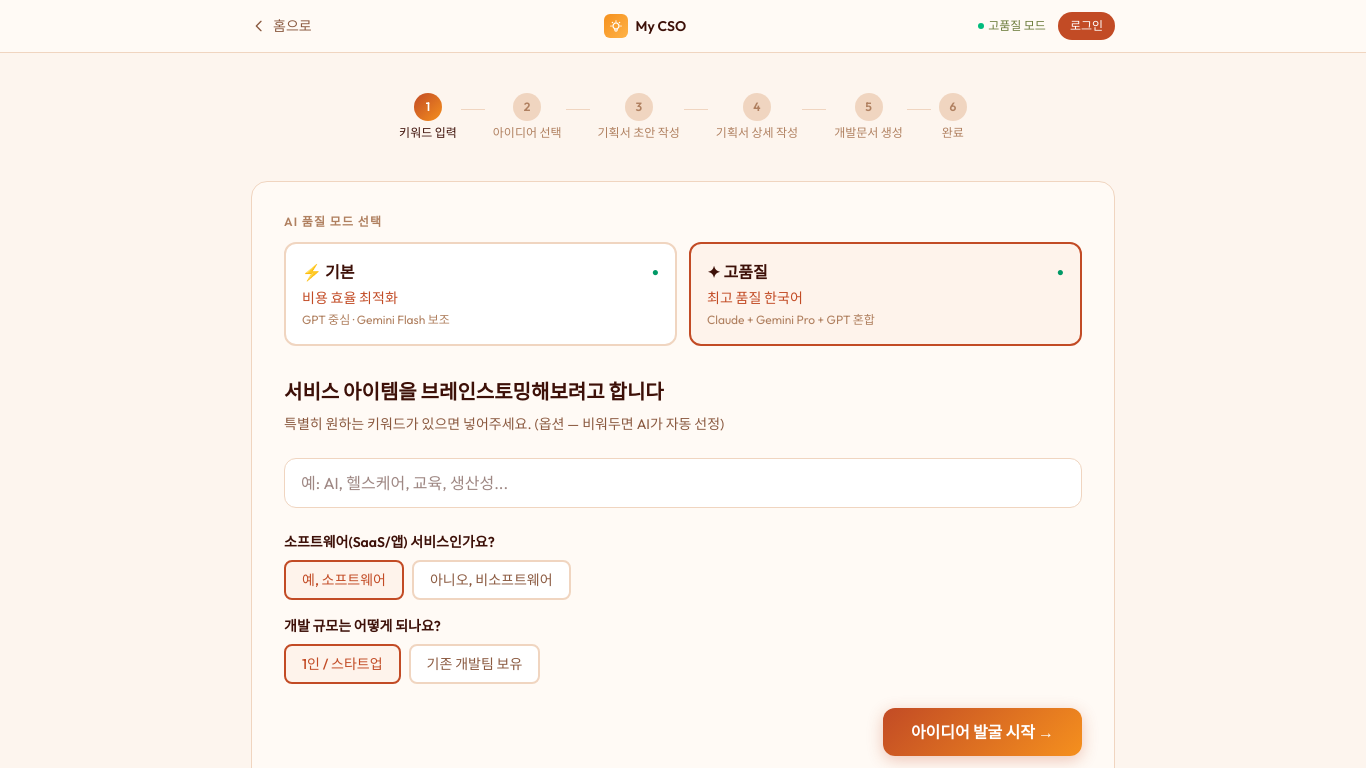
Test: Workflow Step: Select Ideas › shows idea cards with details
Type "AI" into the field with placeholder "예: AI, 헬스케어, 교육, 생산성..." at {"x": 683, "y": 483}, box [284,458,1082,508]
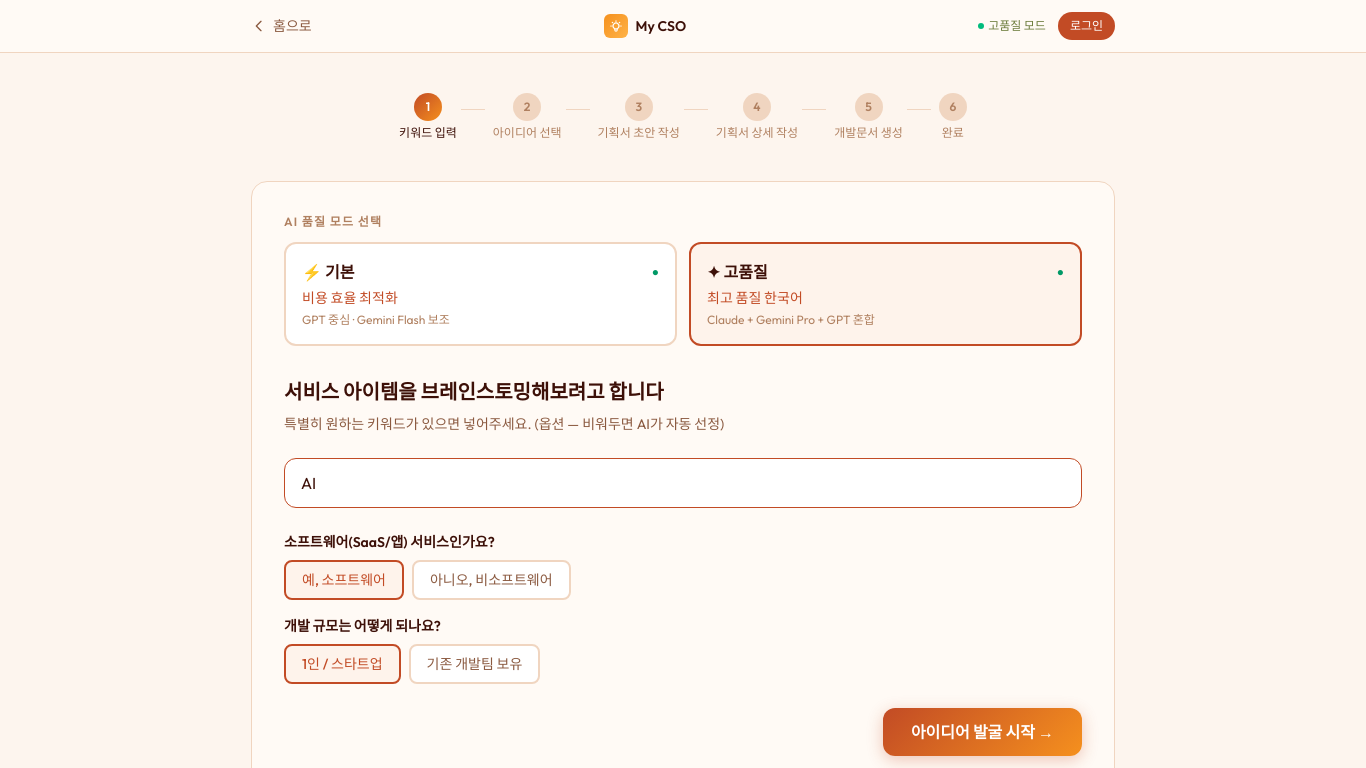
Click the button "아이디어 발굴 시작 →" at {"x": 982, "y": 732}, box [883,708,1082,756]
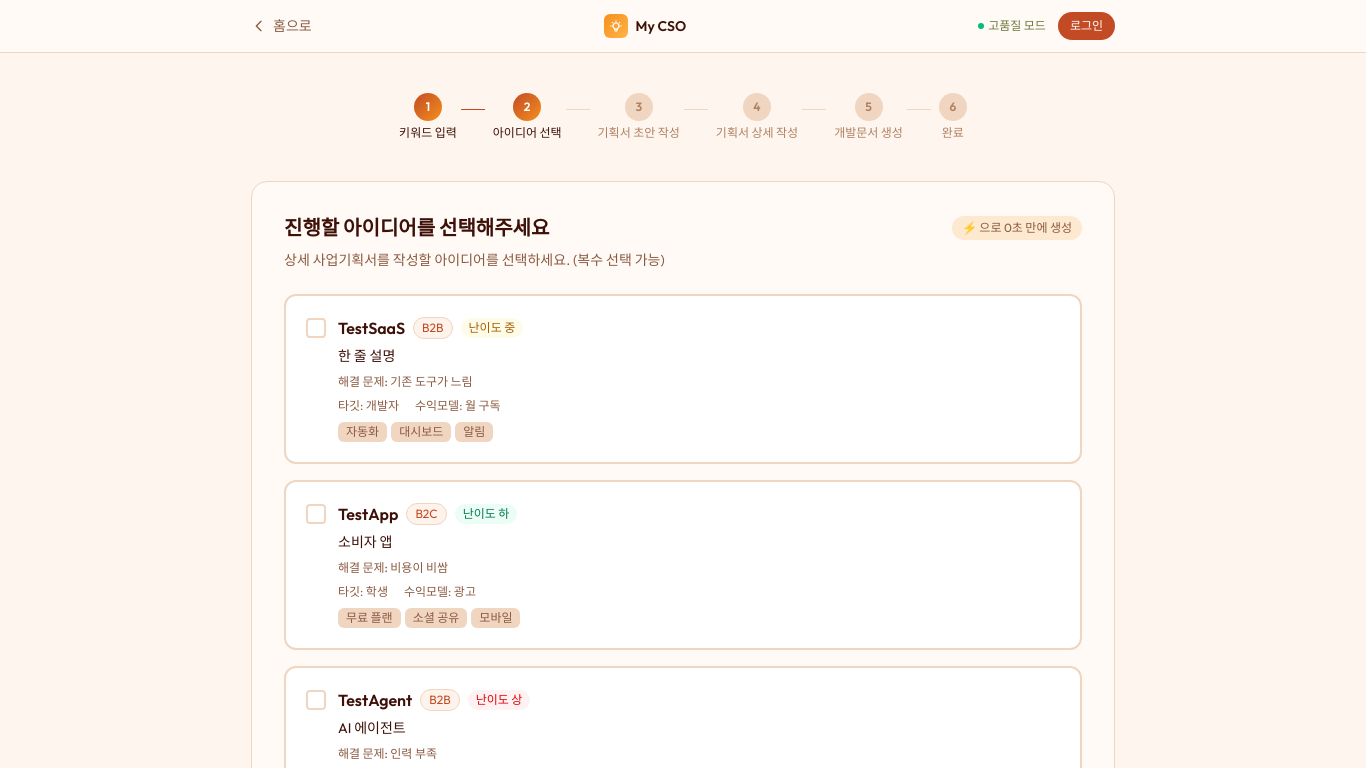
Now the heading "TestSaaS" is shown, box [338,316,405,340]
Now the text "한 줄 설명" is shown, box [338,347,395,365]
Now the text "소비자 앱" is shown, box [338,533,392,551]
